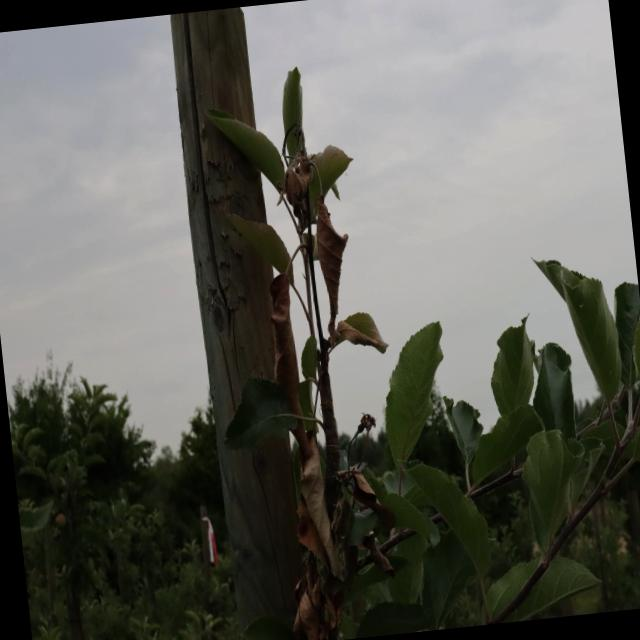-FireBlight-: (282, 418, 334, 594), (264, 266, 311, 426), (275, 130, 340, 243), (305, 196, 356, 336)
